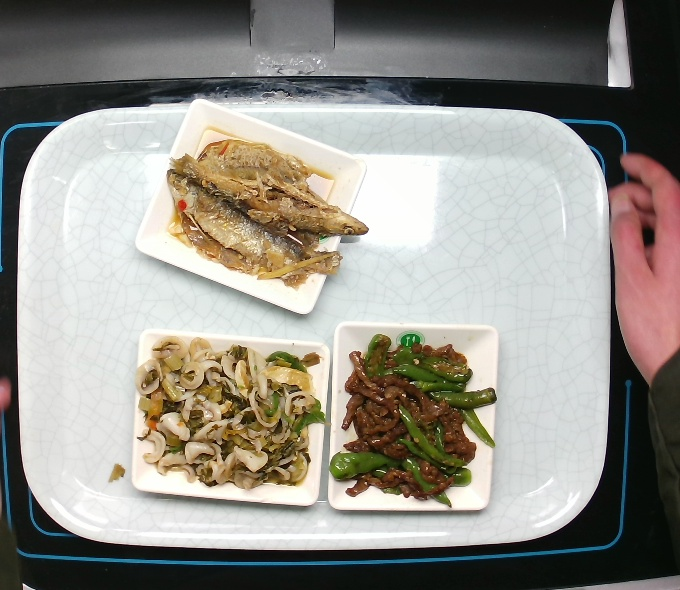wcq-QingJiaoNiuRou: (339, 332, 494, 497)
wcq-XiaoXiYu: (158, 137, 373, 294)
wcq-XueCaiYouYu: (136, 336, 318, 491)
